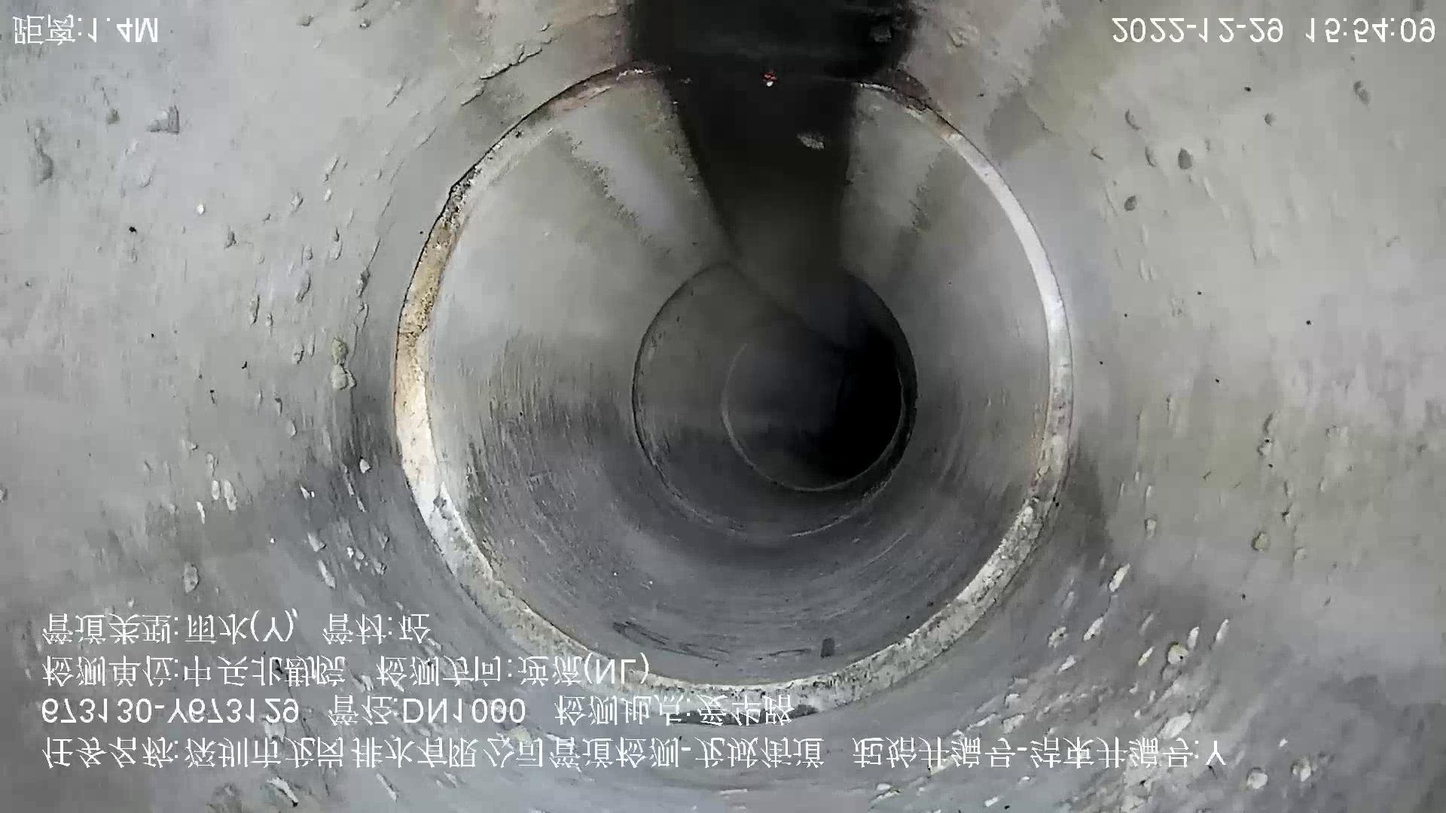CKTJ: (393, 65, 1072, 726)
